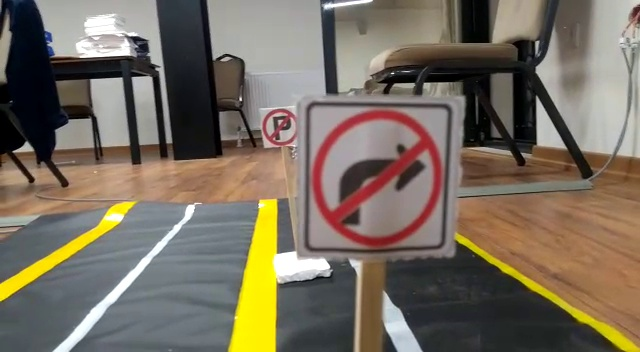park_yapilmaz: (260, 103, 298, 147)
saga_donulmez: (308, 97, 448, 252)
